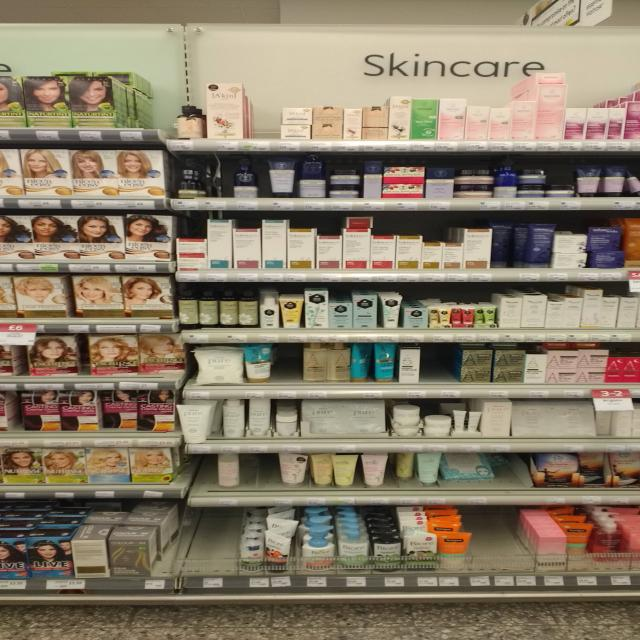void: (182, 509, 238, 572), (470, 504, 520, 569), (132, 82, 172, 140), (182, 453, 215, 508), (420, 344, 454, 397), (247, 450, 278, 508), (498, 452, 530, 503), (276, 345, 304, 399), (251, 106, 277, 151)
